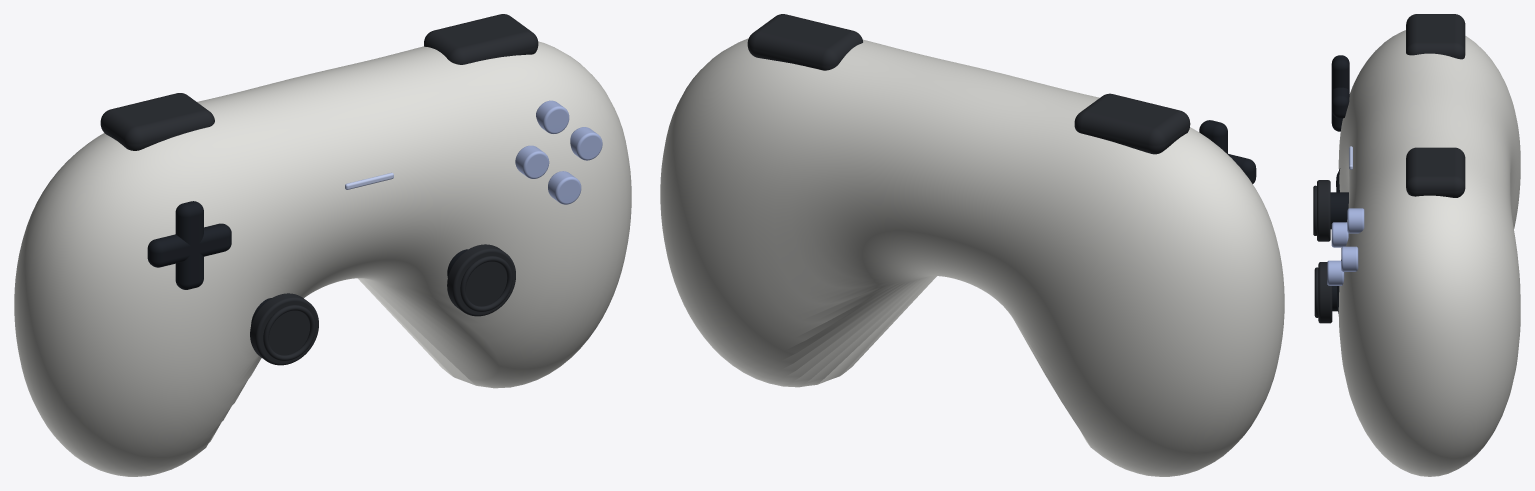
The model's file is game-controller.glb.
3 views of the same model, side by side, from view 1: azimuth 30°, elevation 25°; view 2: azimuth 150°, elevation 25°; view 3: azimuth 270°, elevation 25° (orthographic). The views are drawn at different scales.
Parts seen in each view (by area): view 1: seamless-ergonomic-controller-shell, pressing-shoulder-trigger-1-016, pressing-shoulder-trigger-2-017, tilting-stick-2-008, tilting-stick-1-004, seated-direction-pad-010, seated-direction-pad-011, tilting-stick-1-005, tilting-stick-2-009, pressing-action-button-4-015, pressing-action-button-3-014, pressing-action-button-1-012 (+1 smaller); view 2: seamless-ergonomic-controller-shell, pressing-shoulder-trigger-1-016, pressing-shoulder-trigger-2-017; view 3: seamless-ergonomic-controller-shell, pressing-shoulder-trigger-2-017, pressing-shoulder-trigger-1-016, tilting-stick-1-004, tilting-stick-2-008, seated-direction-pad-011, tilting-stick-1-003, seated-direction-pad-010, pressing-action-button-2-013, pressing-action-button-1-012, pressing-action-button-4-015, pressing-action-button-3-014 (+1 smaller).
Part boxes in pixels (x1,y1,x2,y2): seamless-ergonomic-controller-shell: (14, 41, 631, 476); pressing-shoulder-trigger-1-016: (100, 93, 214, 150); pressing-shoulder-trigger-2-017: (424, 14, 538, 64); tilting-stick-2-008: (447, 244, 515, 316); tilting-stick-1-004: (250, 293, 318, 365); seated-direction-pad-010: (147, 223, 231, 267); seated-direction-pad-011: (175, 201, 203, 289); tilting-stick-1-005: (263, 305, 315, 360); tilting-stick-2-009: (460, 256, 512, 311); pressing-action-button-4-015: (515, 145, 549, 178); pressing-action-button-3-014: (548, 171, 581, 204); pressing-action-button-1-012: (536, 100, 569, 133); seamless-ergonomic-controller-shell: (660, 38, 1284, 476); pressing-shoulder-trigger-1-016: (1074, 93, 1190, 154); pressing-shoulder-trigger-2-017: (747, 14, 862, 70); seamless-ergonomic-controller-shell: (1338, 30, 1520, 476); pressing-shoulder-trigger-2-017: (1406, 147, 1465, 197); pressing-shoulder-trigger-1-016: (1406, 14, 1465, 59); tilting-stick-1-004: (1317, 180, 1330, 241); tilting-stick-2-008: (1318, 262, 1332, 323); seated-direction-pad-011: (1331, 55, 1349, 131); tilting-stick-1-003: (1330, 192, 1348, 229); seated-direction-pad-010: (1331, 87, 1349, 118); pressing-action-button-2-013: (1341, 246, 1358, 271); pressing-action-button-1-012: (1347, 208, 1364, 233); pressing-action-button-4-015: (1331, 222, 1348, 247); pressing-action-button-3-014: (1327, 260, 1344, 285).
Size of the model in its own units: 2 by 1.13 by 0.7145.
